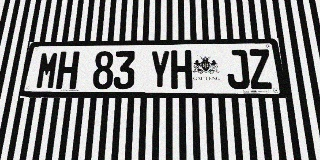3: (113, 51, 135, 89)
8: (92, 51, 115, 89)
H: (55, 51, 80, 89), (171, 50, 192, 89)
J: (226, 49, 250, 89)
M: (35, 52, 60, 89)
Y: (149, 50, 170, 89)
Z: (247, 49, 274, 89)
